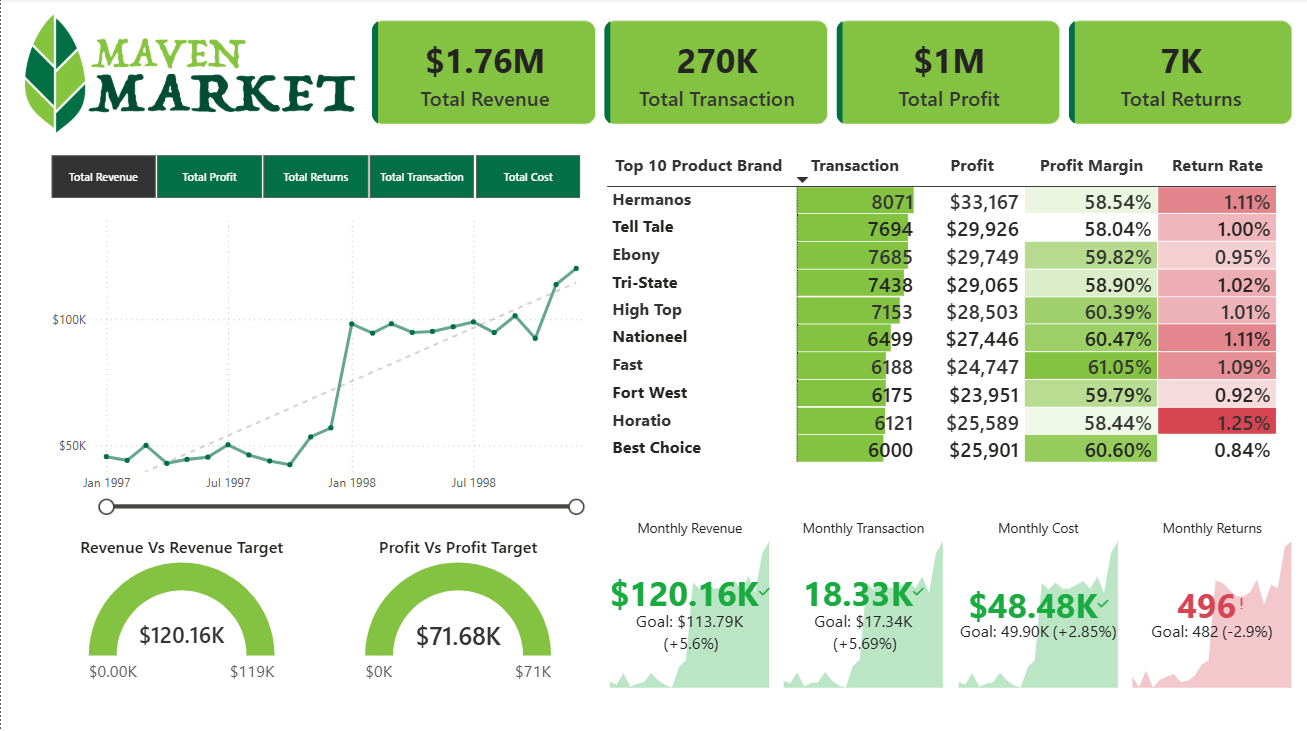

Layout of this report page (visuals, bound fields, positions):
{"tool":"powerbi","page":{"name":"Executive Dashboard ","canvas":[1280,720],"ordinal":0},"visuals":[{"type":"image","box":[13.5,2.4,346.1,141.8],"z":0},{"type":"kpi","title":"Monthly Revenue ","fields":{"Indicator":["Measure.Total Revenue"],"TrendLine":["Calendar.Start of Month"],"Goal":["Measure.Last Month Revnue"]},"box":[590.6,508.7,166.1,171.2],"z":0,"group":"g1"},{"type":"group","id":"g1","title":"KPIs","box":[590.6,508.7,677.4,171.2],"z":1000},{"type":"kpi","title":"Monthly Transaction  ","fields":{"TrendLine":["Calendar.Start of Month"],"Indicator":["Measure.Total Transaction"],"Goal":["Measure.Last Month Transaction"]},"box":[761.1,508.7,166.1,171.2],"z":1000,"group":"g1"},{"type":"lineChart","title":"Revenue Trending ","fields":{"Y":["Measure.Total Revenue"],"Category":["Calendar.date.Variation.Date Hierarchy.Year","Calendar.date.Variation.Date Hierarchy.Quarter","Calendar.date.Variation.Date Hierarchy.Month","Calendar.date.Variation.Date Hierarchy.Day"]},"box":[45.5,202.4,544.7,306.8],"z":2000},{"type":"kpi","title":"Monthly Returns","fields":{"TrendLine":["Calendar.Start of Month"],"Indicator":["Measure.Total Returns"],"Goal":["Measure.Last Month Returns"]},"box":[1102,508.7,166.1,171.2],"z":2000,"group":"g1"},{"type":"gauge","title":"Revenue Vs Revenue Target ","fields":{"Y":["Measure.Total Revenue"],"MaxValue":["Measure.Revenue Target"]},"box":[45.5,526.2,263.2,154.1],"z":2000,"group":"g2"},{"type":"pivotTable","fields":{"Values":["Measure.Total Transaction","Measure.Total Profit","Measure.Profit Margin","Measure.Return Rate"],"Rows":["Products.product_brand"]},"box":[588.2,146.7,678.7,362],"z":3000},{"type":"kpi","title":"Monthly Cost   ","fields":{"TrendLine":["Calendar.Start of Month"],"Indicator":["Measure.Total Cost"],"Goal":["Measure.Last Month Cost"]},"box":[931.5,508.7,166.1,171.2],"z":3000,"group":"g1"},{"type":"gauge","title":"Profit Vs Profit Target ","fields":{"Y":["Measure.Total Profit"],"MaxValue":["Measure.Profit Target"]},"box":[318.8,526.2,258.8,154.1],"z":3000,"group":"g2"},{"type":"group","id":"g2","title":"Group 2","box":[45.5,526.2,531.9,153.6],"z":4000},{"type":"slicer","fields":{"Values":["Head .Head "]},"box":[22.8,146.5,567.5,55.5],"z":5000},{"type":"cardVisual","fields":{"Data":["Measure.Total Revenue","Measure.Total Transaction","Measure.Total Profit","Measure.Total Returns"]},"box":[346.1,4.9,934.2,137],"z":6000}]}

Visuals, with their boxes in screenshot pixels (x1, y1, x2, y2), scaled from the page's 1280x720 canvas onto the 1307x731 screenshot:
image: box=[14, 2, 367, 146]
"Monthly Revenue " kpi: box=[603, 516, 773, 690]
"KPIs" group: box=[603, 516, 1295, 690]
"Monthly Transaction  " kpi: box=[777, 516, 947, 690]
"Revenue Trending " lineChart: box=[46, 205, 603, 517]
"Monthly Returns" kpi: box=[1125, 516, 1295, 690]
"Revenue Vs Revenue Target " gauge: box=[46, 534, 315, 691]
pivotTable - Measure.Total Transaction x Measure.Total Profit: box=[601, 149, 1294, 516]
"Monthly Cost   " kpi: box=[951, 516, 1121, 690]
"Profit Vs Profit Target " gauge: box=[326, 534, 590, 691]
"Group 2" group: box=[46, 534, 590, 690]
slicer - Head .Head : box=[23, 149, 603, 205]
cardVisual - Measure.Total Revenue x Measure.Total Transaction: box=[353, 5, 1306, 144]
